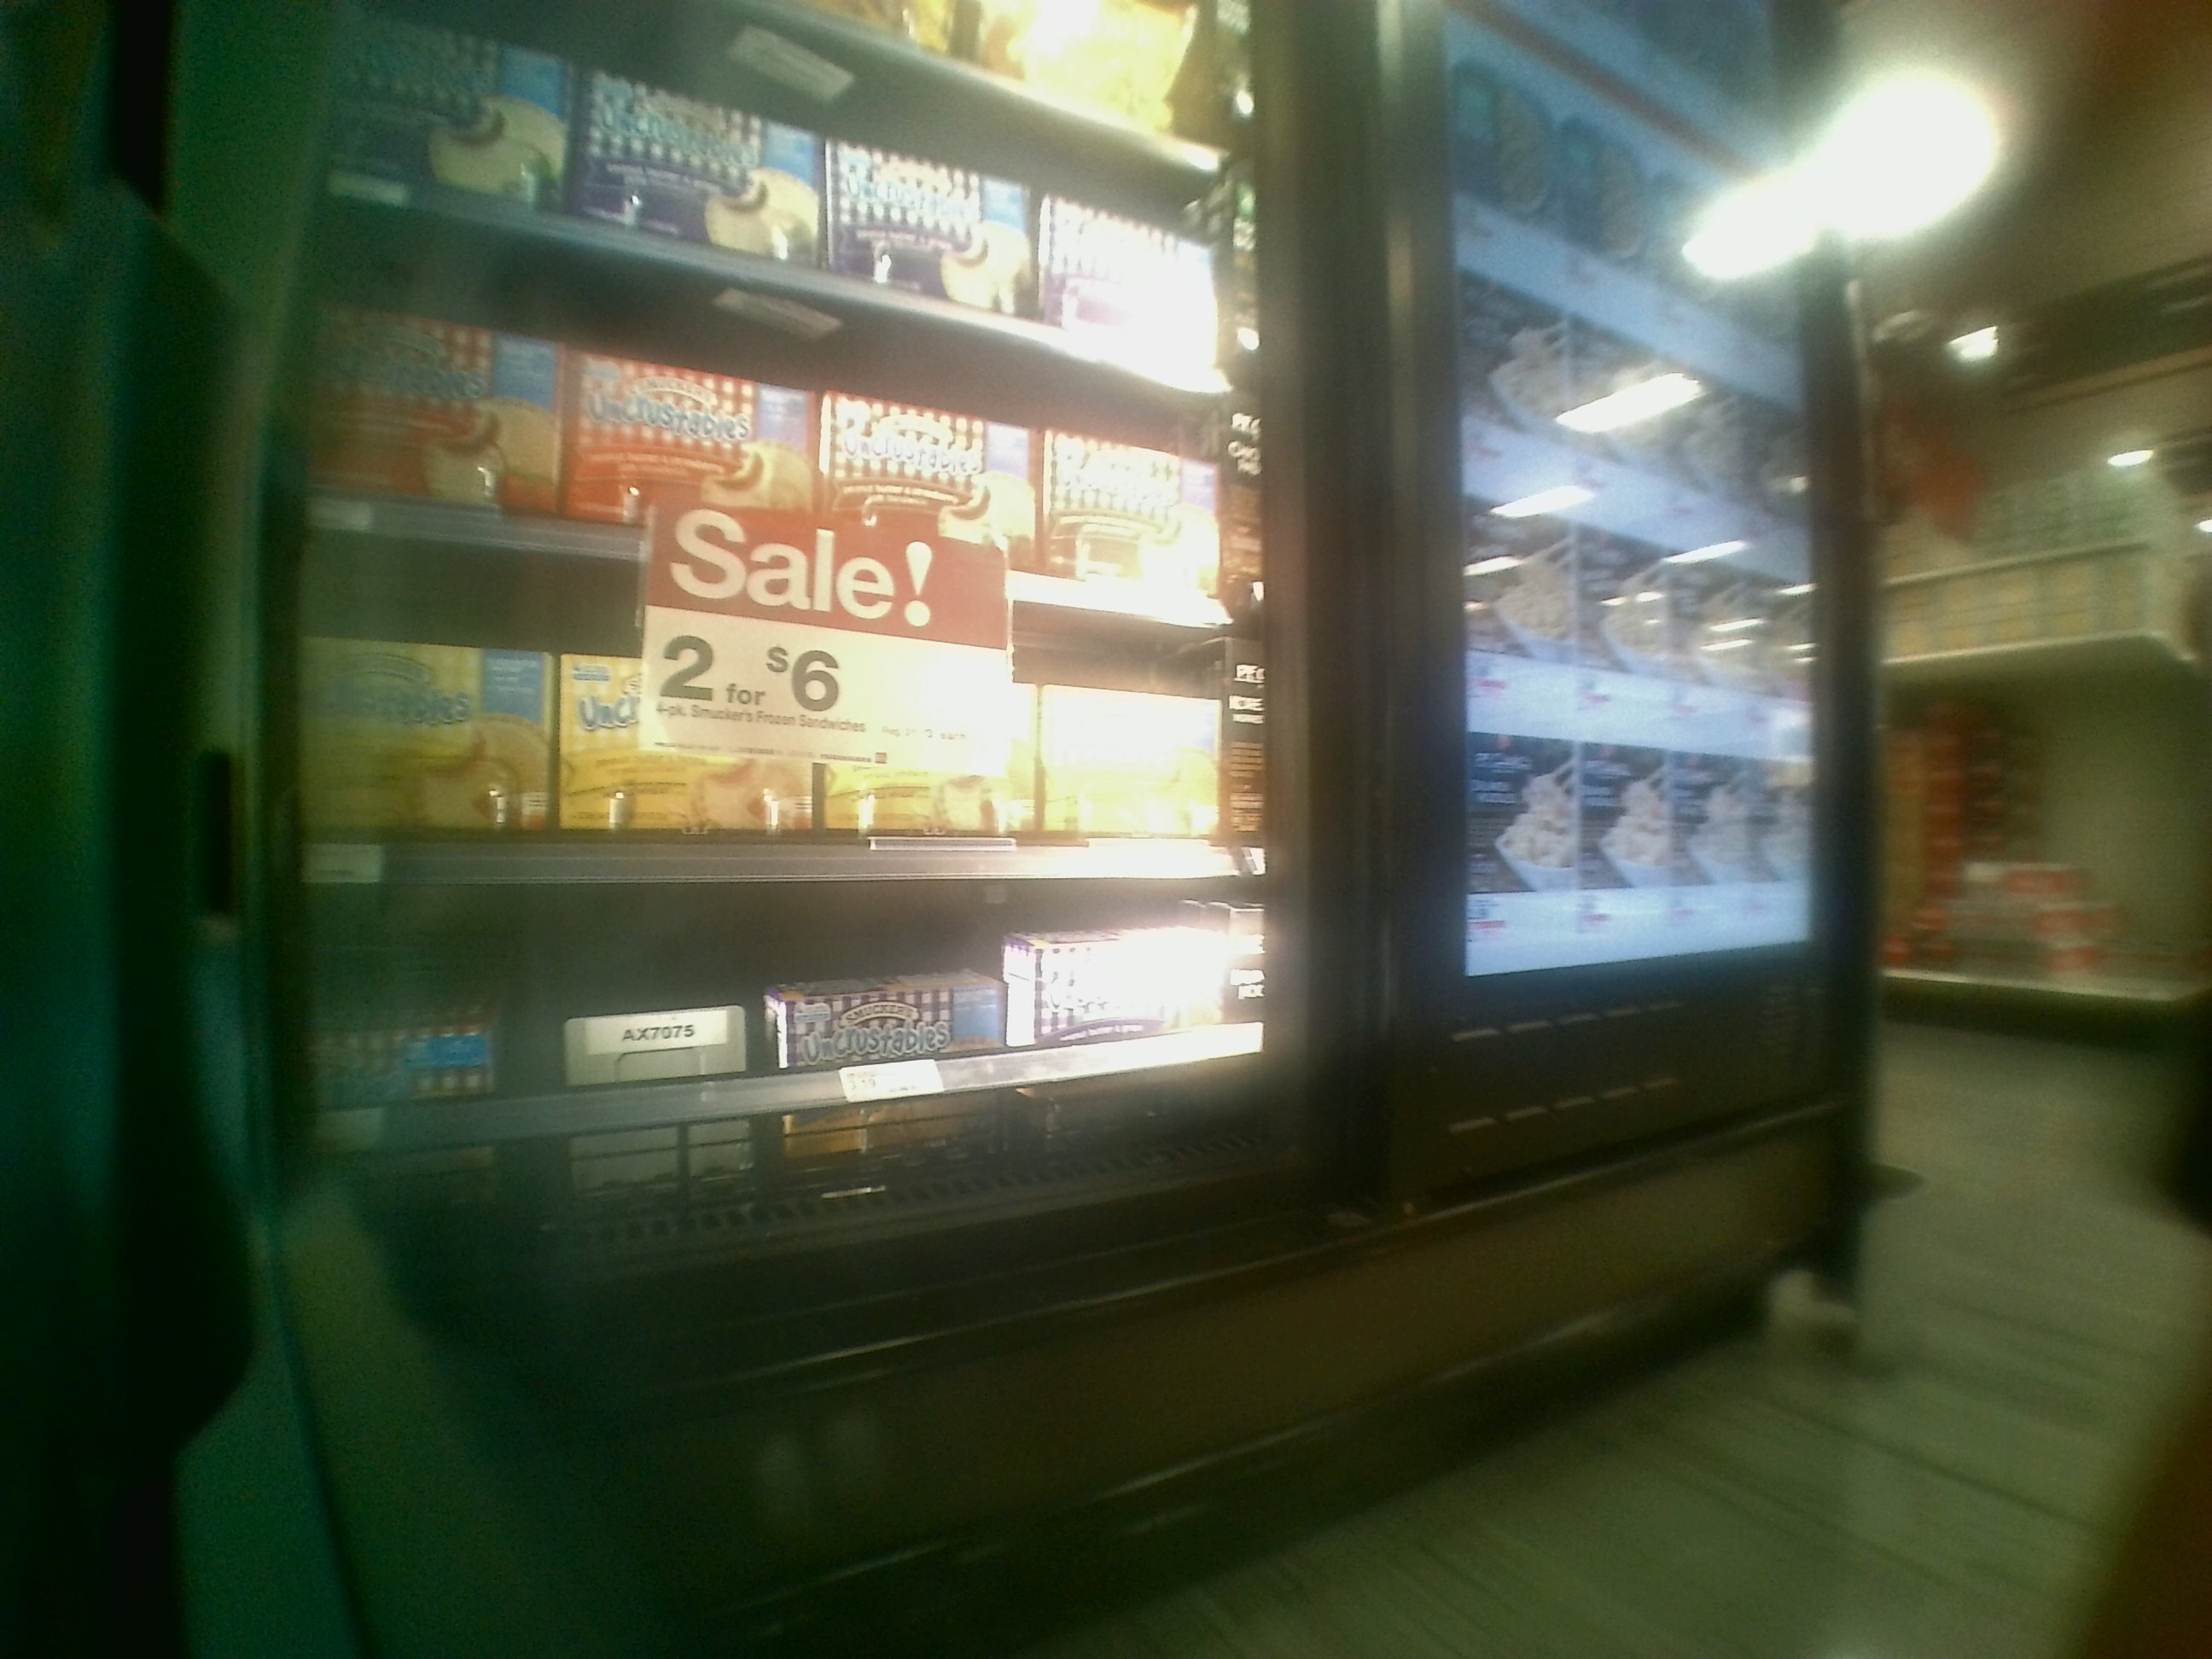shelf: (226, 603, 1268, 885)
